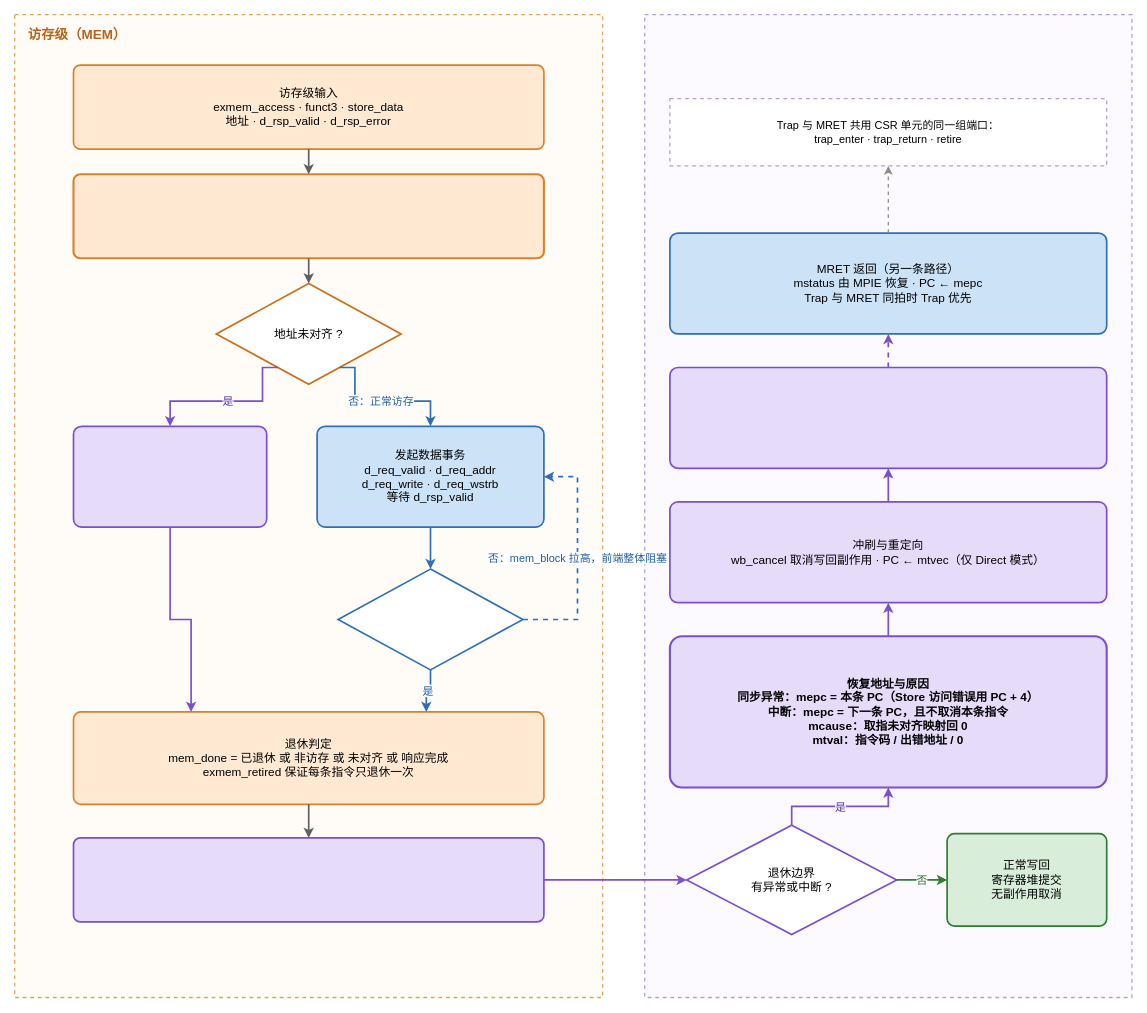
Image size: 1147x1013. Some labels were removed from this diagram. The box of each missing label's shape, as (x1, y1, x2, y2) in pixels:
CSR 更新 mstatus：MIE → MPIE，并关中断 · 写入 mepc · mcause · mtval: (669, 366, 1107, 469)
响应完成 ?: (337, 568, 523, 670)
地址与数据装配（访存单元） load_data · store_wdata · store_wstrb · misaligned: (72, 173, 545, 259)
异常登记 exmem_exc_cause[3:0]，登记不被 trap_take 门控: (72, 837, 544, 922)
登记未对齐异常 不发起数据事务 直接记 EXC_MISALIGNED: (72, 425, 267, 528)
退休边界（WB）: (644, 14, 1132, 998)
